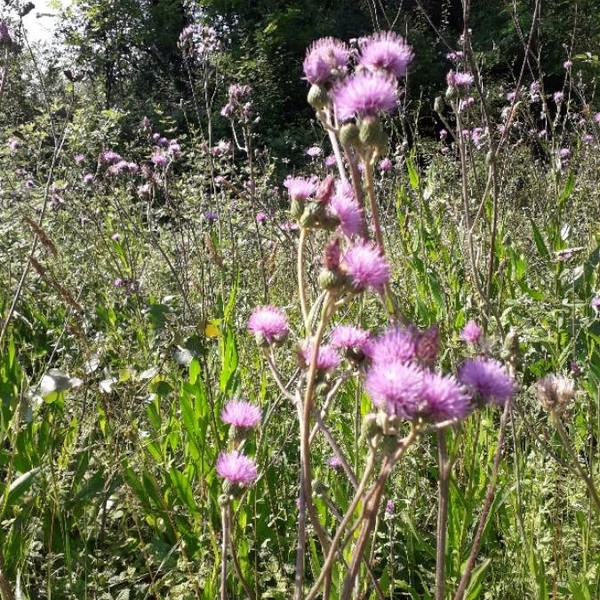obstacle: (297, 19, 432, 317), (286, 188, 383, 538), (400, 352, 483, 593), (142, 346, 232, 558)
